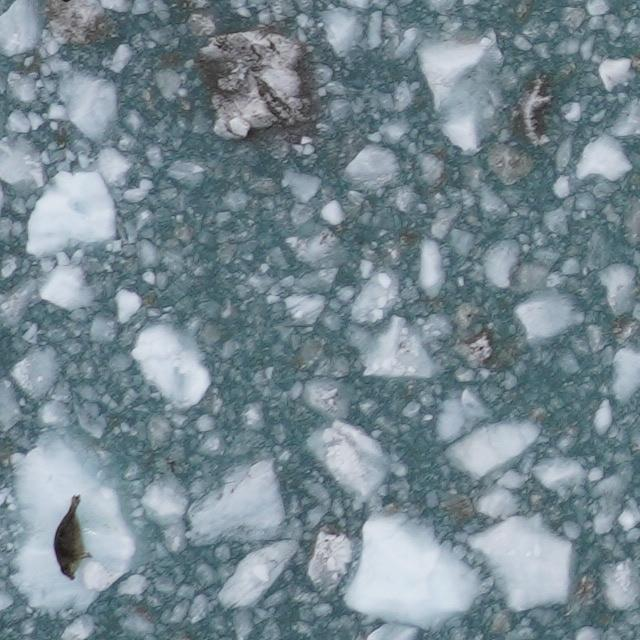seal: (51, 492, 95, 583)
